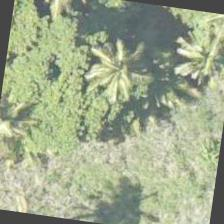Kelapa_Sawit: (70, 24, 172, 126), (156, 11, 223, 112)
